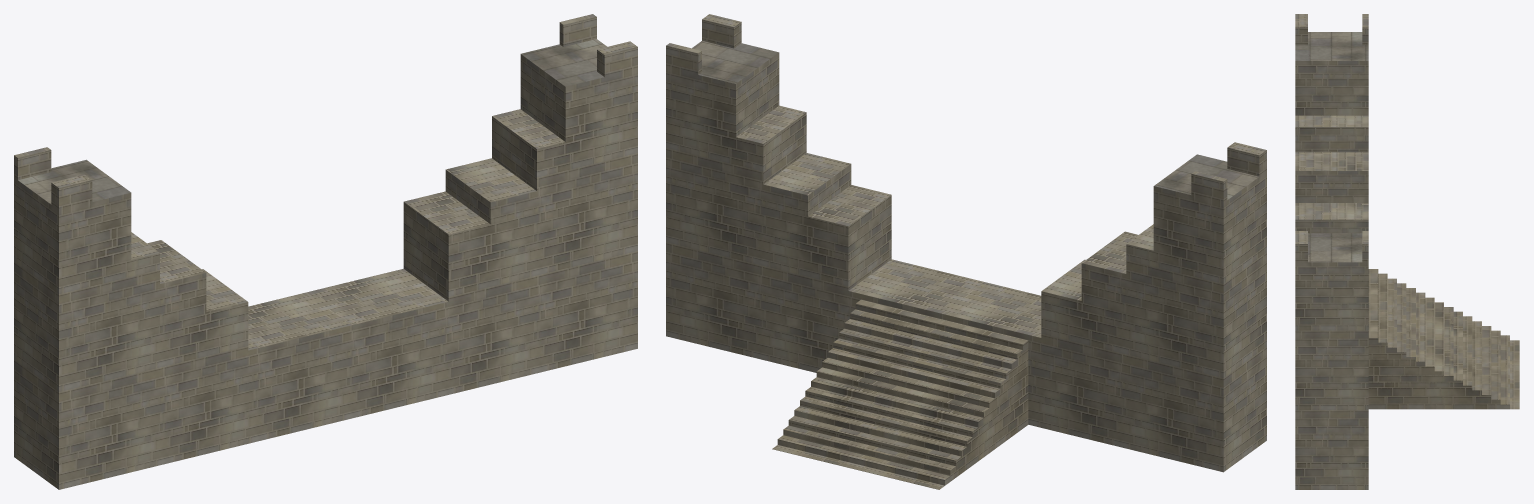
Rendered from fort-wall-breach.reveal-v1.lod1.glb.
3 renders of one model, left to right at view 1: azimuth 30°, elevation 25°; view 2: azimuth 150°, elevation 25°; view 3: azimuth 270°, elevation 25°, orthographic. The views are drawn at different scales.
Parts seen in each view (by area): view 1: fort-wall-breach; view 2: fort-wall-breach; view 3: fort-wall-breach.
Part boxes in pixels (left/top/right/bottom): fort-wall-breach: left=14, top=14, right=637, bottom=489; fort-wall-breach: left=666, top=14, right=1266, bottom=489; fort-wall-breach: left=1295, top=14, right=1519, bottom=489.
Size of the model in its own units: 26 by 12.95 by 10.7.
Materials: 2 (2 with a texture image).
